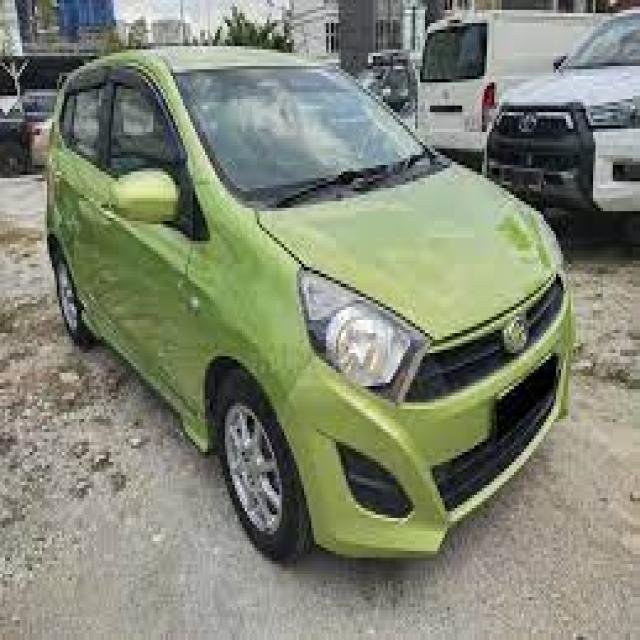PeroduaAxia: (29, 40, 576, 564)
